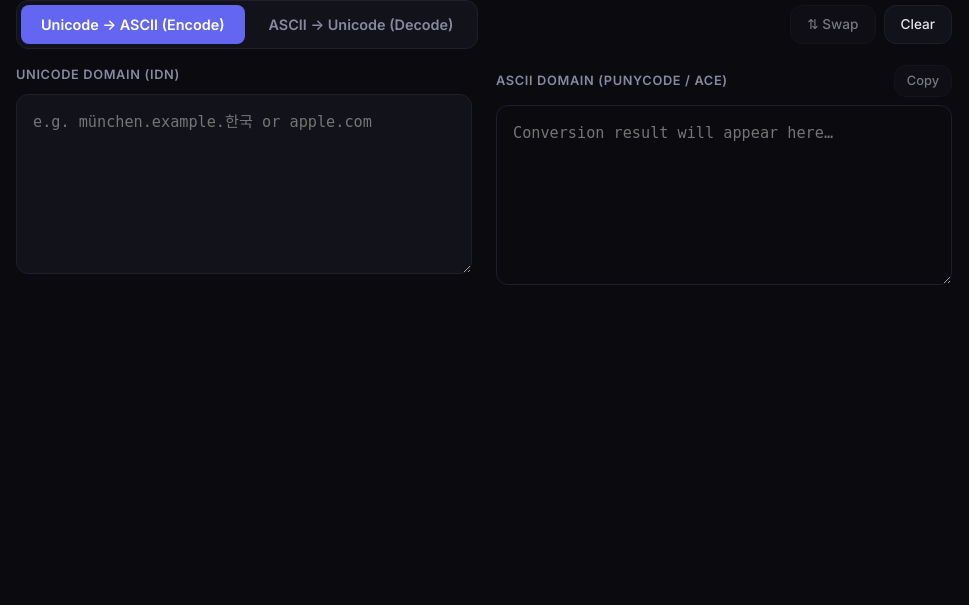
it: PunycodeTool conversion › displays an error alert for malformed ACE payload
Click the button "ASCII → Unicode (Decode)" at {"x": 361, "y": 24}, box [248,5,473,44]
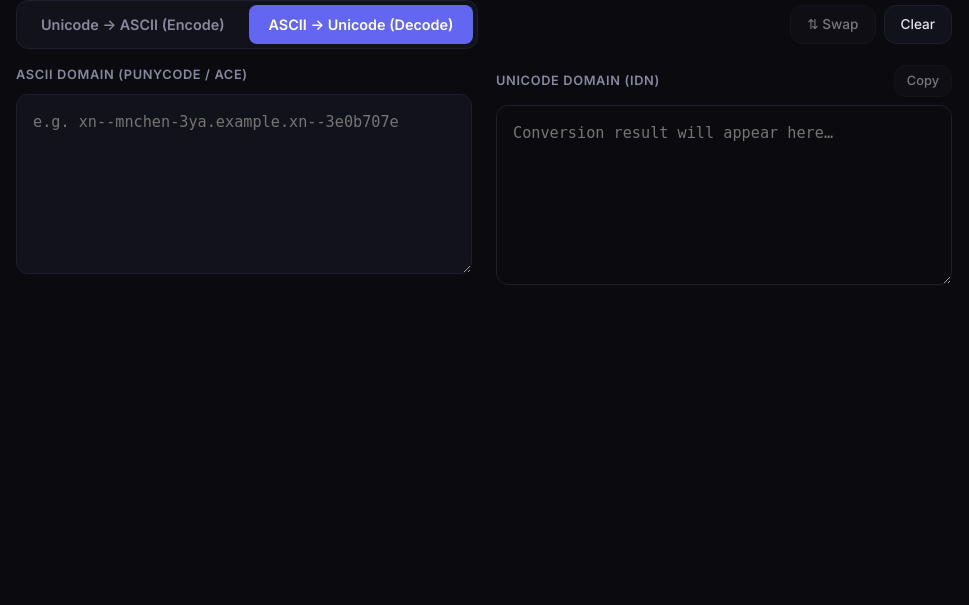
Type "xn--invalid_payload!.com" into the text box labelled "ASCII Domain (Punycode / ACE)" at {"x": 244, "y": 184}, box [16,94,472,274]
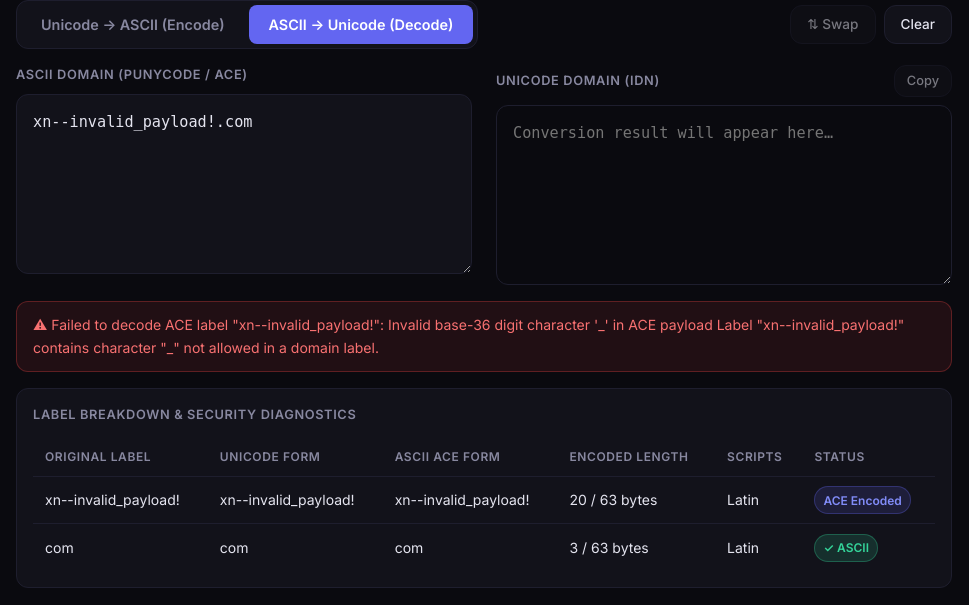
Expected: the text box labelled "Unicode Domain (IDN)" is empty, [496,105,952,285]
Expected: the message shows "Failed to decode ACE label", [33,316,904,356]
